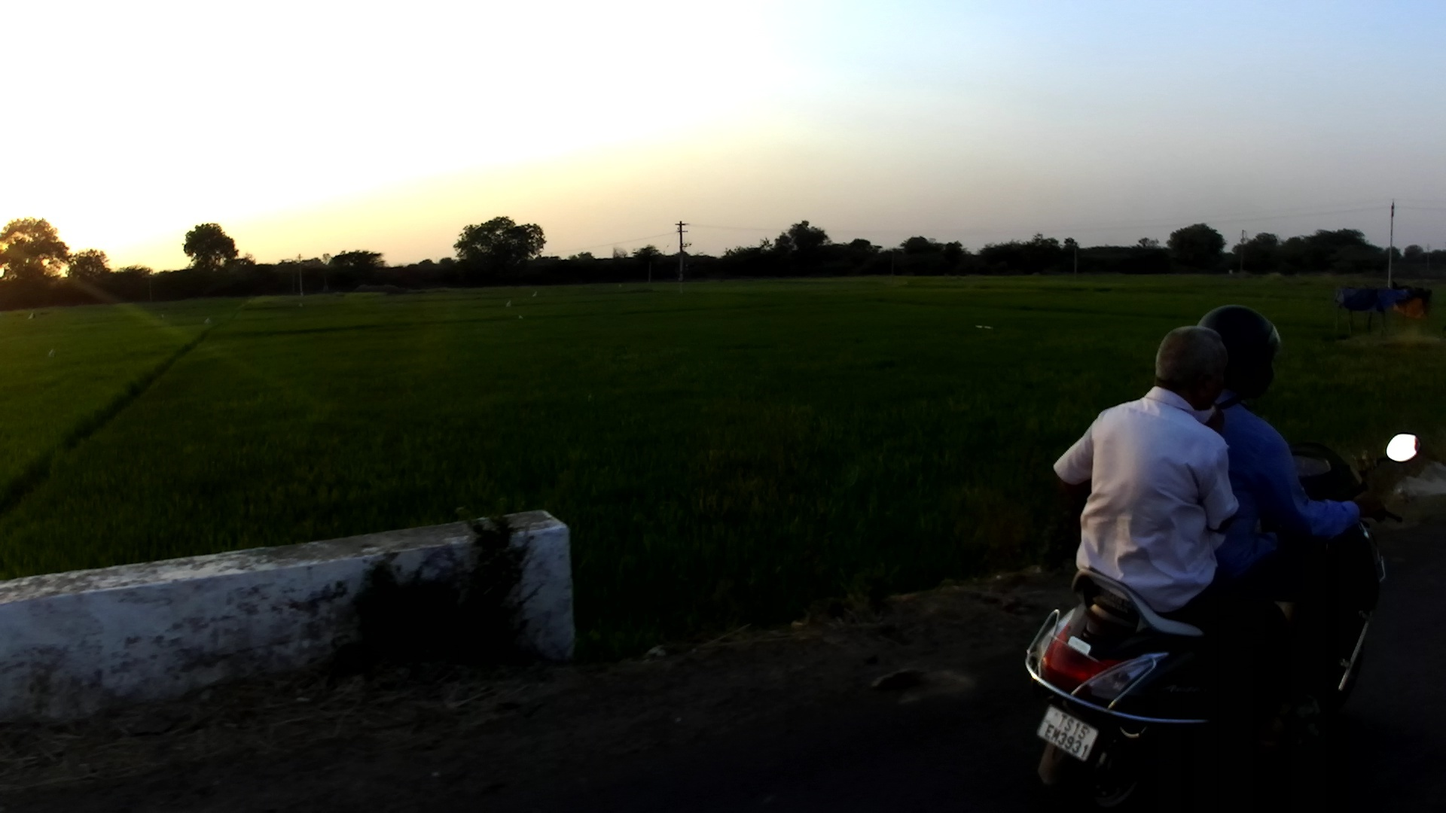motorcycle: (1025, 430, 1427, 813)
rider: (1051, 323, 1322, 778), (1195, 303, 1367, 767)
